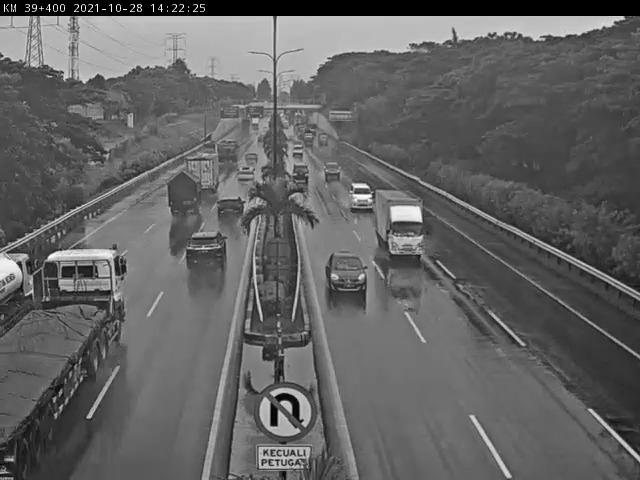big truck: (41, 245, 122, 352), (184, 151, 219, 196)
car: (321, 245, 369, 306), (0, 240, 31, 313), (188, 227, 228, 263), (346, 183, 377, 217), (216, 196, 244, 218), (235, 164, 258, 186), (289, 161, 310, 184), (284, 140, 306, 159), (325, 161, 339, 183), (249, 140, 262, 155)
small truck: (374, 187, 431, 265), (165, 168, 201, 212)
